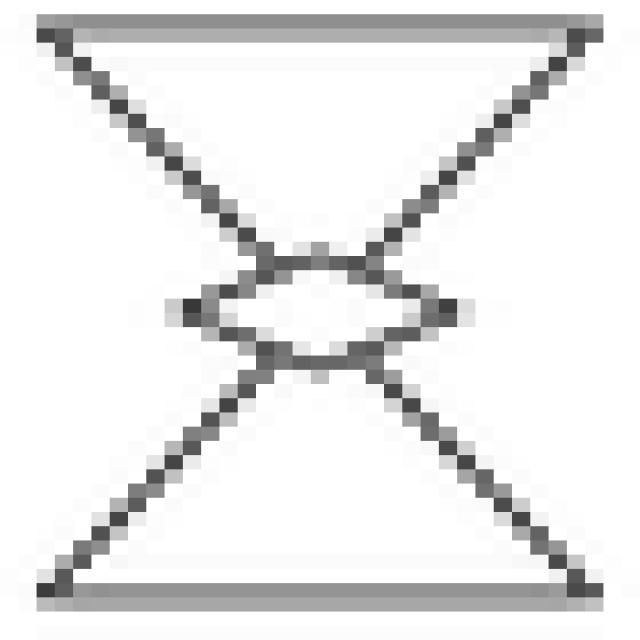Plug Valve: (50, 24, 596, 602)
